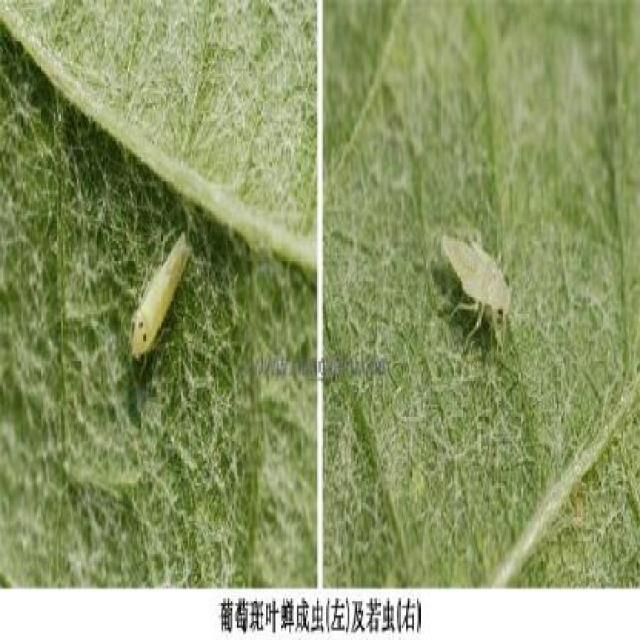green-leafhopper: (438, 220, 514, 354), (128, 230, 195, 376)
